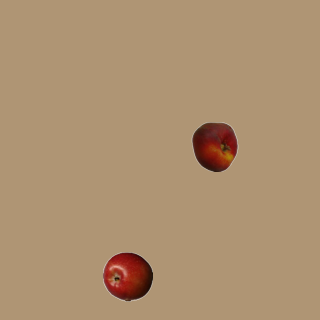Apple Braeburn: (102, 251, 152, 301)
Nectarine Flat: (189, 121, 239, 171)
